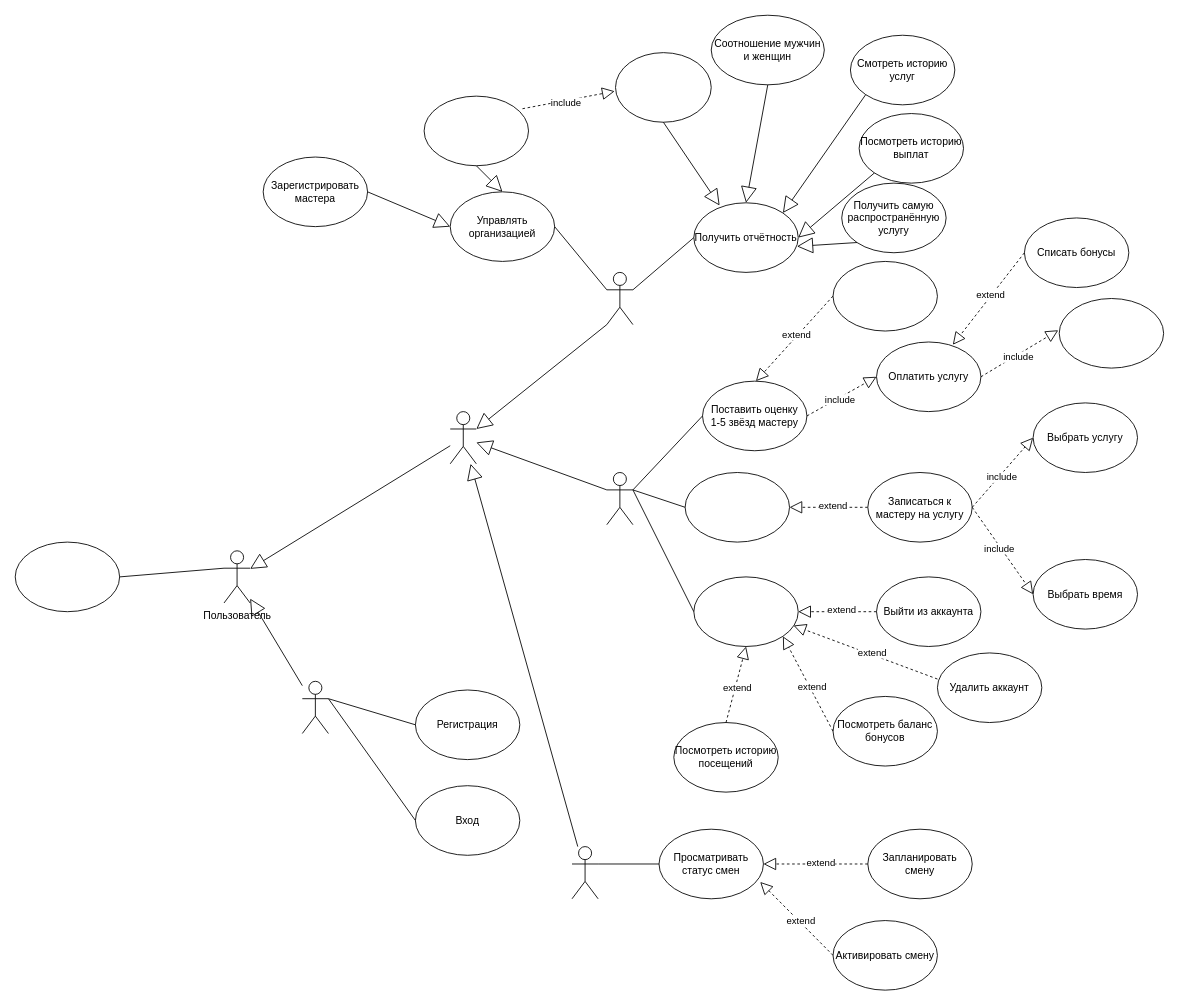
This 1179x1006 diagram has some shape labels left out. Each missing label, with the centre of its shape:
"Авторизованный пользователь" belongs at point (462, 437).
"Администратор" belongs at point (619, 298).
"Выдать премию мастеру" belongs at point (476, 130).
"Клиент" belongs at point (619, 498).
"Мастер" belongs at point (584, 872).
"Неавторизованный пользователь" belongs at point (314, 706).
"Получить лучшего мастера" belongs at point (663, 87).
"Посмотреть каталог услуг" belongs at point (737, 507).
"Посмотреть отзывы" belongs at point (67, 576).
"Прикрепить фото" belongs at point (884, 296).
"Просматривать личный кабинет" belongs at point (745, 611).
"Указать данные банковской карты" belongs at point (1111, 333).
